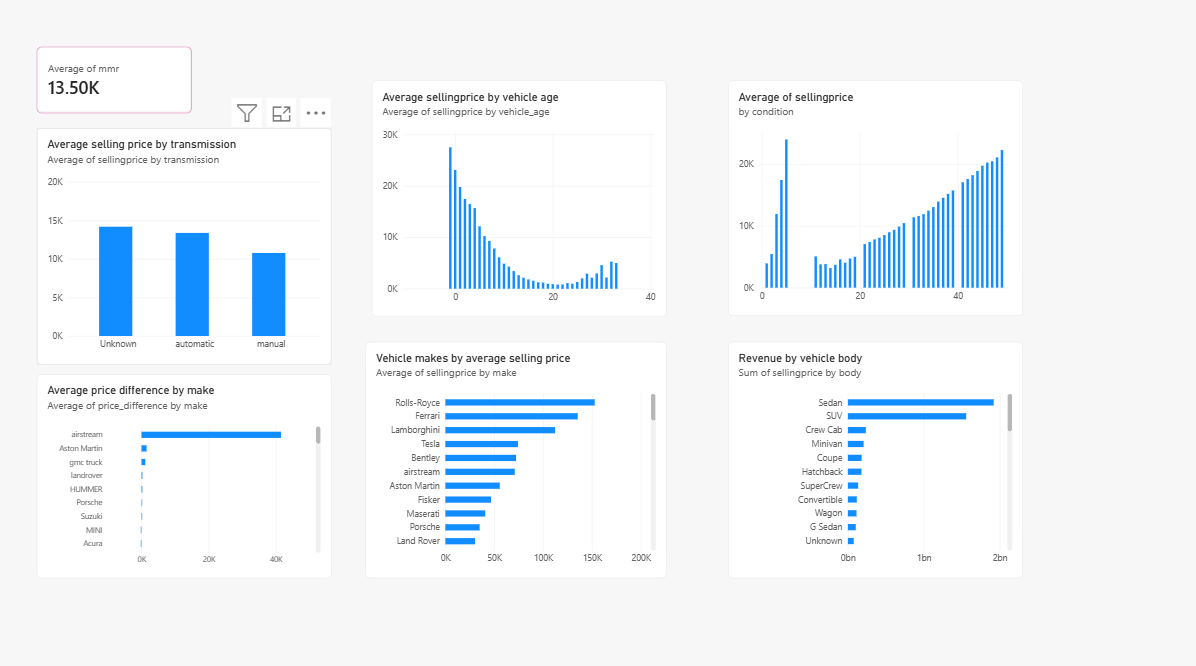

This screenshot's page, from the dashboard's own definition file:
{"tool":"powerbi","page":{"name":"Vehicle and pricing analysis","canvas":[1920,1080],"ordinal":1},"visuals":[{"type":"clusteredColumnChart","title":"Average  sellingprice by vehicle age","fields":{"Category":["car_prices_cleaned.vehicle_age"],"Y":["Avg(car_prices_cleaned.sellingprice)"]},"box":[598.3,131.7,471.7,378.3],"z":0},{"type":"clusteredColumnChart","fields":{"Category":["car_prices_cleaned.condition"],"Y":["Avg(car_prices_cleaned.sellingprice)"]},"box":[1168.3,131.7,471.7,376.7],"z":1},{"type":"clusteredBarChart","title":"Revenue by vehicle body","fields":{"Category":["car_prices_cleaned.body"],"Y":["Sum(car_prices_cleaned.sellingprice)"]},"box":[1168.3,550,472,378],"z":2},{"type":"clusteredColumnChart","title":"Average selling price by transmission","fields":{"Category":["car_prices_cleaned.transmission"],"Y":["Avg(car_prices_cleaned.sellingprice)"]},"box":[61.7,208.3,472,378],"z":3},{"type":"clusteredBarChart","title":"Vehicle makes by average selling price","fields":{"Category":["car_prices_cleaned.make"],"Y":["Avg(car_prices_cleaned.sellingprice)"]},"box":[588.3,550,481.7,378.3],"z":4},{"type":"cardVisual","fields":{"Data":["Avg(car_prices_cleaned.mmr)"]},"box":[61.7,78.3,248.3,106.7],"z":5},{"type":"clusteredBarChart","title":"Average price difference by make","fields":{"Category":["car_prices_cleaned.make"],"Y":["Avg(car_prices_cleaned.price_difference)"]},"box":[61.7,601.7,471.7,326.7],"z":6}]}

Visuals, with their boxes in screenshot pixels (x1, y1, x2, y2), scaled from the page's 1920x1080 canvas onto the 1196x666 screenshot:
"Average  sellingprice by vehicle age" clusteredColumnChart: 373, 81, 667, 314
clusteredColumnChart - car_prices_cleaned.condition x Avg(car_prices_cleaned.sellingprice): 728, 81, 1022, 314
"Revenue by vehicle body" clusteredBarChart: 728, 339, 1022, 572
"Average selling price by transmission" clusteredColumnChart: 38, 128, 332, 362
"Vehicle makes by average selling price" clusteredBarChart: 366, 339, 667, 572
cardVisual - Avg(car_prices_cleaned.mmr): 38, 48, 193, 114
"Average price difference by make" clusteredBarChart: 38, 371, 332, 573
